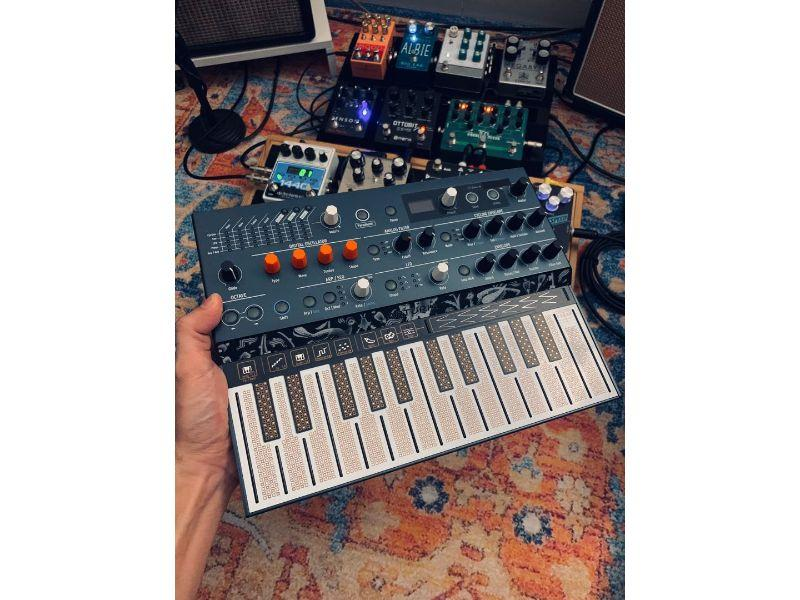synthesizer: (193, 198, 593, 487)
